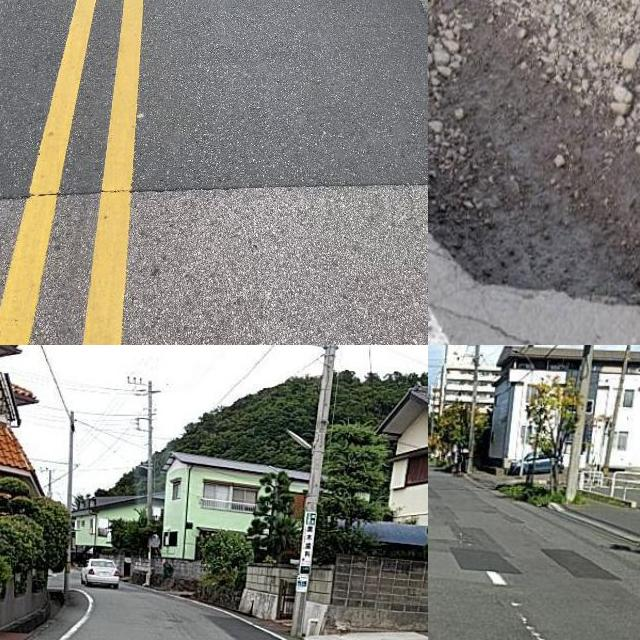Pinggir: (428, 0, 640, 319)
Sambungan: (0, 0, 428, 202), (449, 542, 520, 574), (547, 548, 615, 580)
